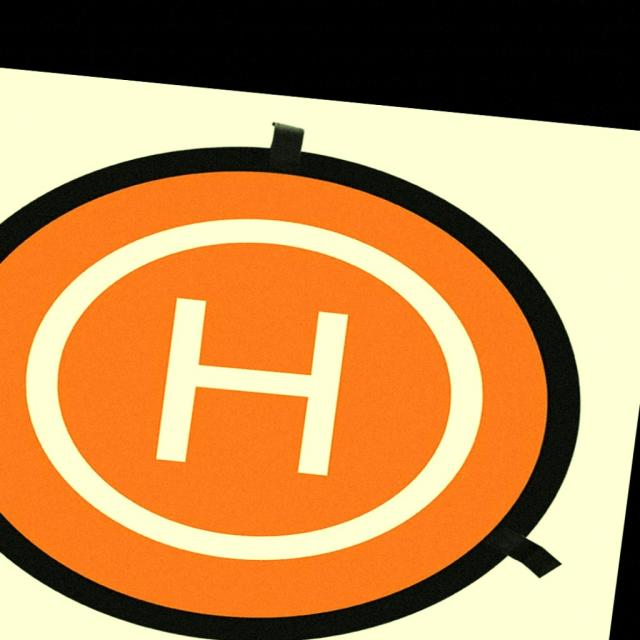helipad: (16, 211, 488, 570)
